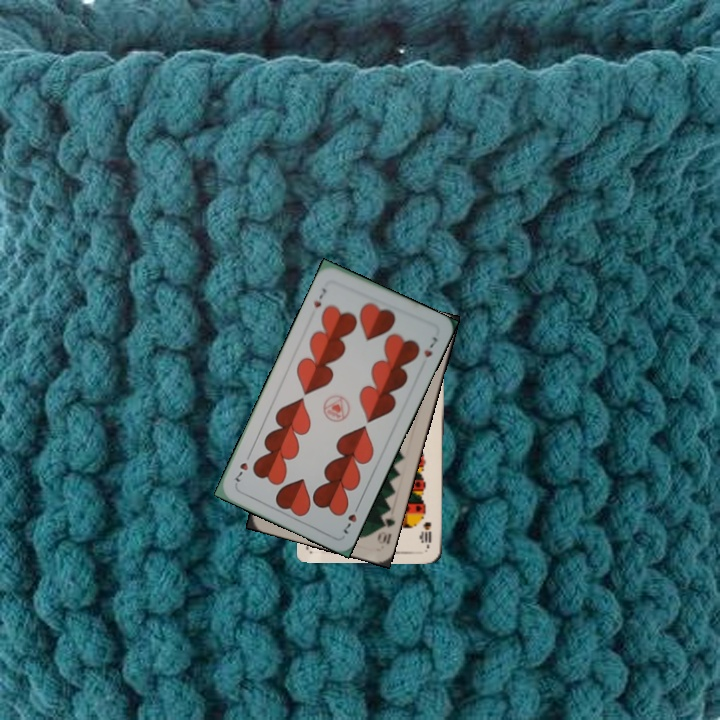G10: (373, 508, 397, 547)
H7: (339, 500, 363, 537), (309, 284, 330, 310)
S10: (419, 518, 434, 549)
